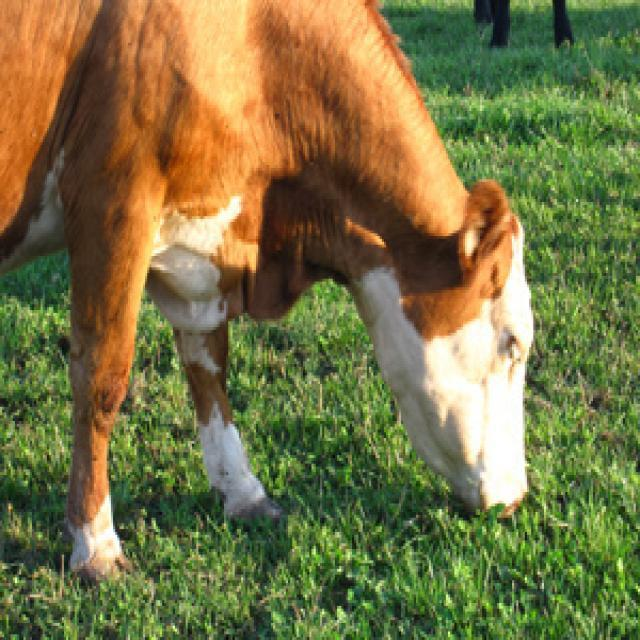cow: (0, 0, 538, 589)
